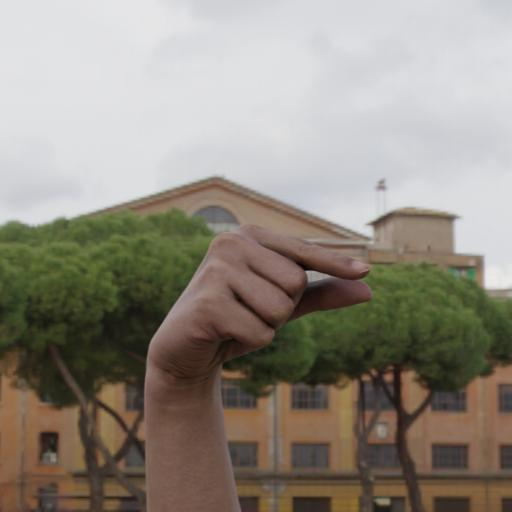G: (136, 214, 380, 413)
